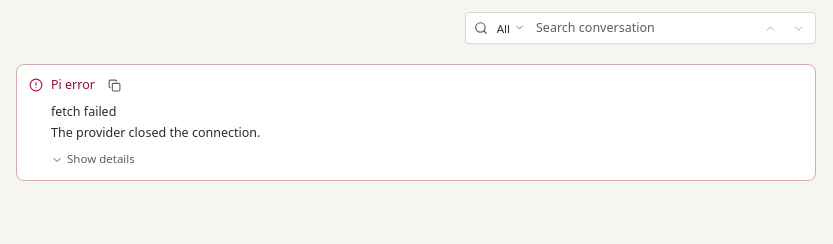
Test: Pi assistant errors › keeps a complete reason paragraph readable without trailing ellipsis, with diagnostics on demand
Expected: the element "Pi error" does not show "Diagnostic line", x1=16 y1=64 x2=816 y2=180
Click the button "Show details" at (93, 160), box x1=47 y1=148 x2=139 y2=172
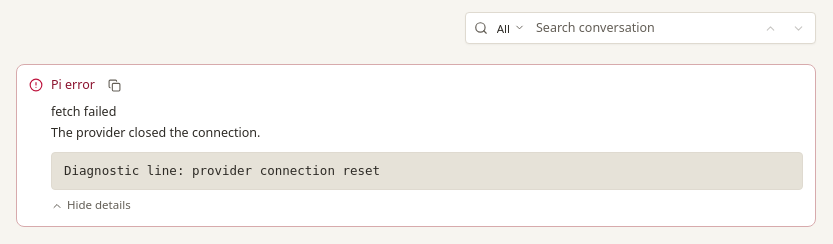
Expected: the element "Pi error" shows "Diagnostic line: provider connection reset", x1=64 y1=162 x2=380 y2=178
